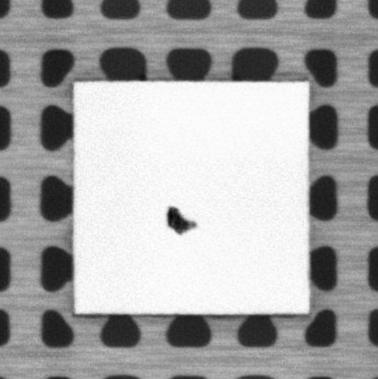DIE_INK: (163, 205, 198, 237)
